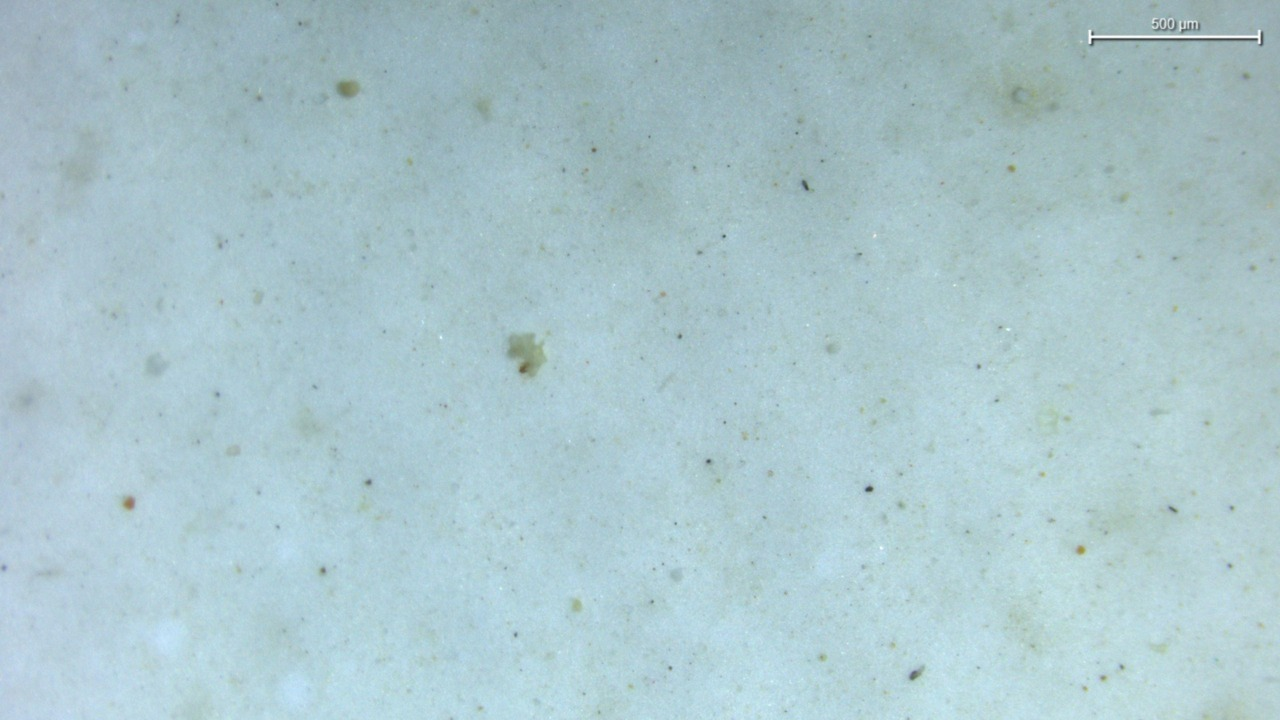microplastic_fragment: (507, 333, 545, 375)
